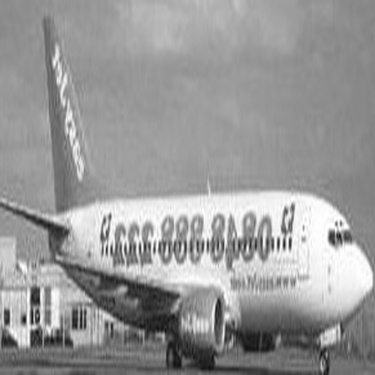airplane: (4, 4, 369, 372)
